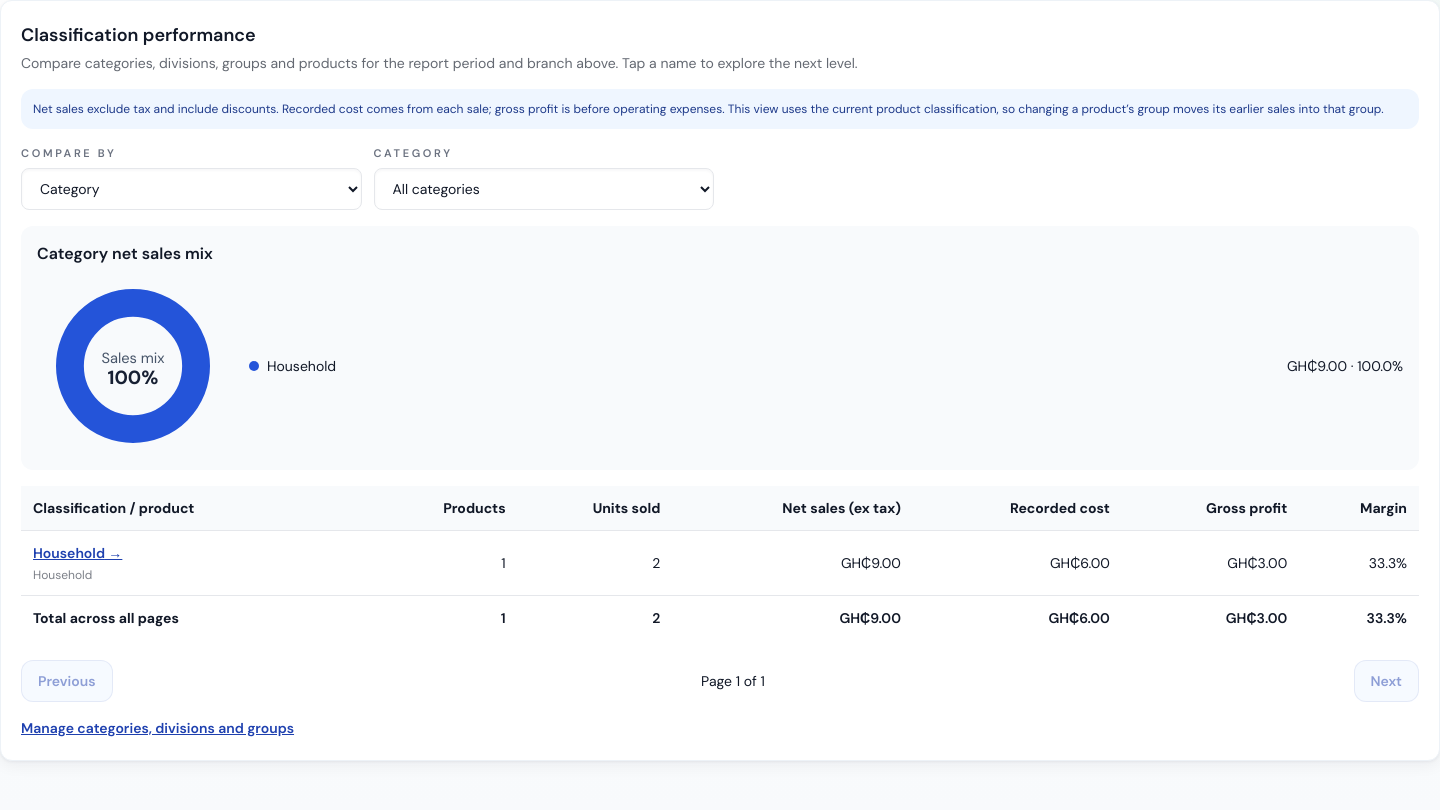
keeps a Category only drilldown limited to products without a division or group
Step 1. Click the button "Household →" → (78, 552), box x1=33 y1=542 x2=122 y2=562
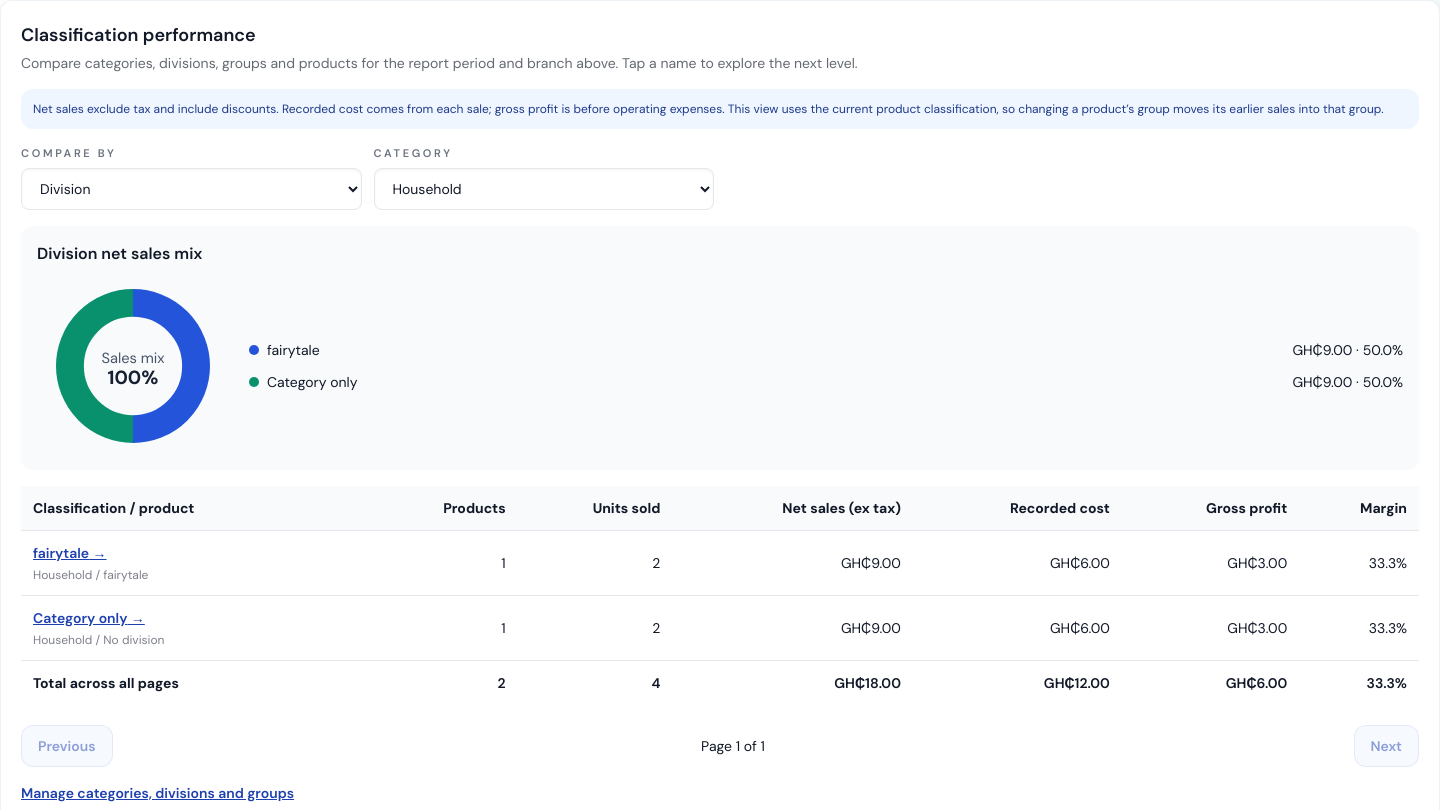
Step 2. Click the button "Category only →" → (89, 618), box x1=33 y1=608 x2=145 y2=628
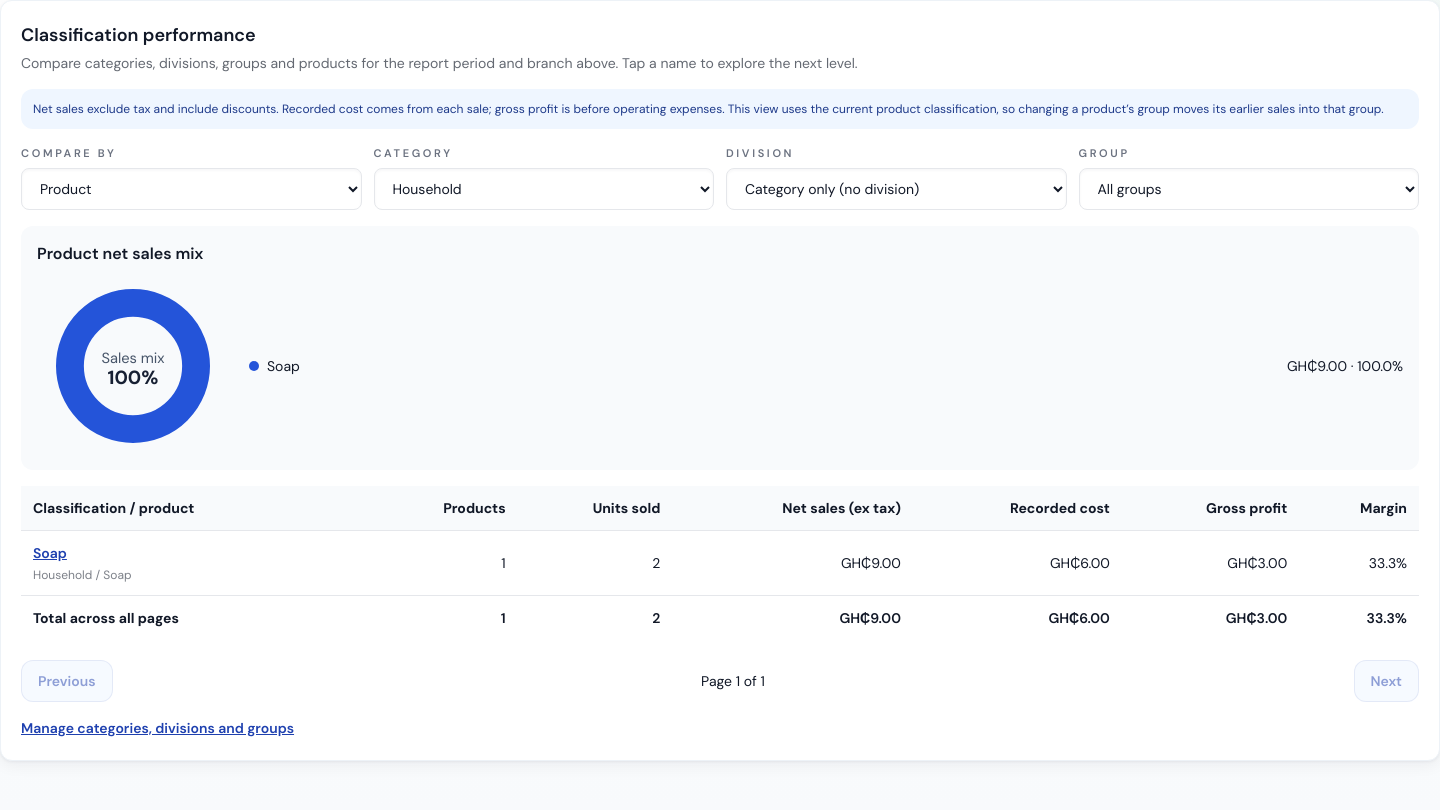
Expected: the link "Soap" is shown, x1=33 y1=544 x2=67 y2=562
